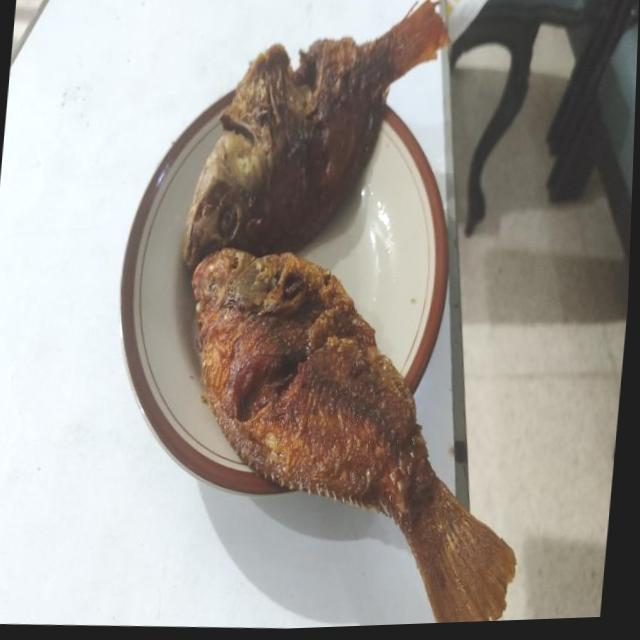ikan_mujair: (192, 248, 516, 623), (184, 0, 450, 267)
